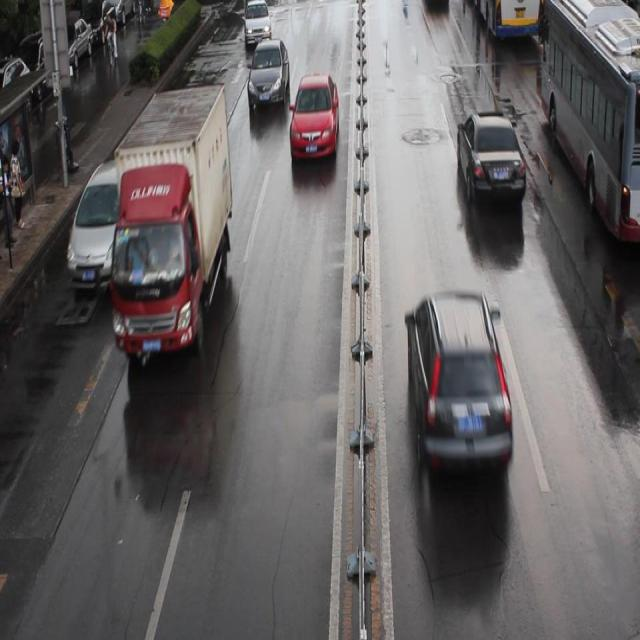bus: (110, 81, 232, 353)
car: (405, 286, 512, 477), (67, 161, 137, 291), (454, 109, 526, 204), (288, 69, 340, 161), (246, 38, 290, 110), (243, 1, 271, 46), (420, 1, 448, 8)
van: (535, 2, 640, 245), (466, 1, 552, 39)
